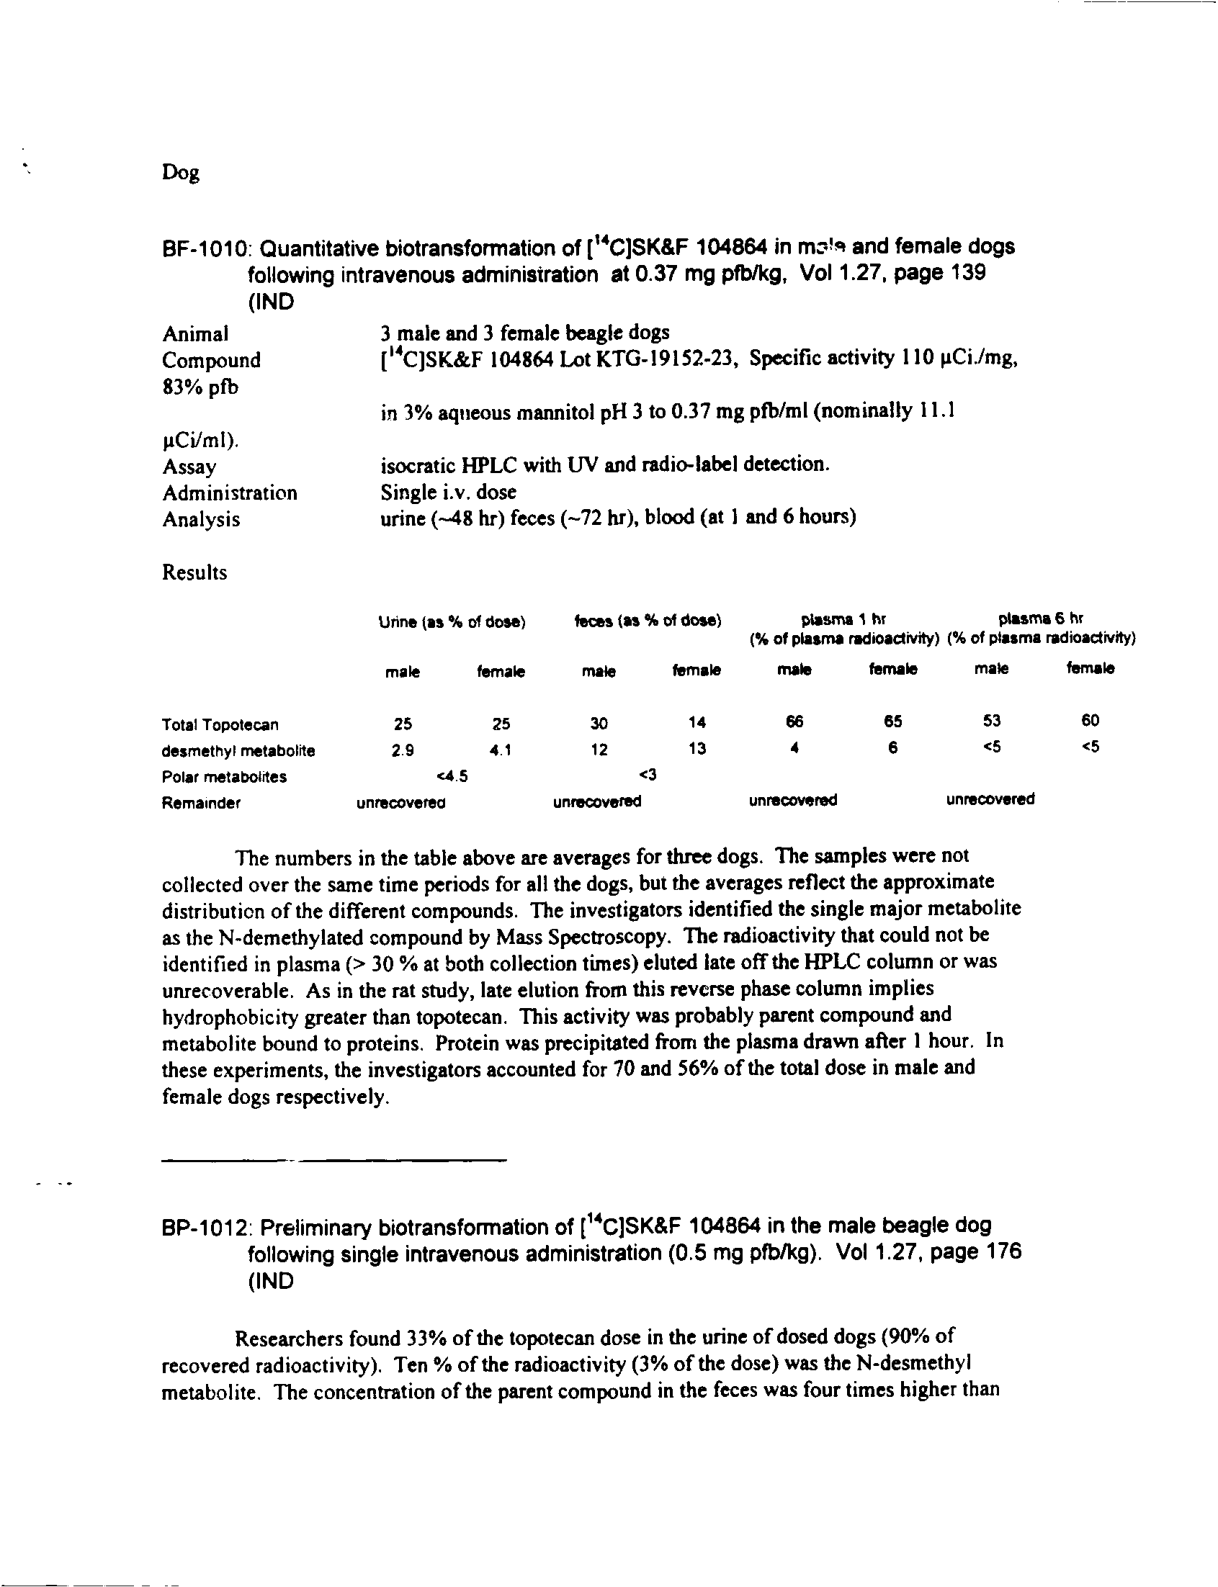nolines: (156, 605, 1139, 818), (161, 320, 1024, 533)
